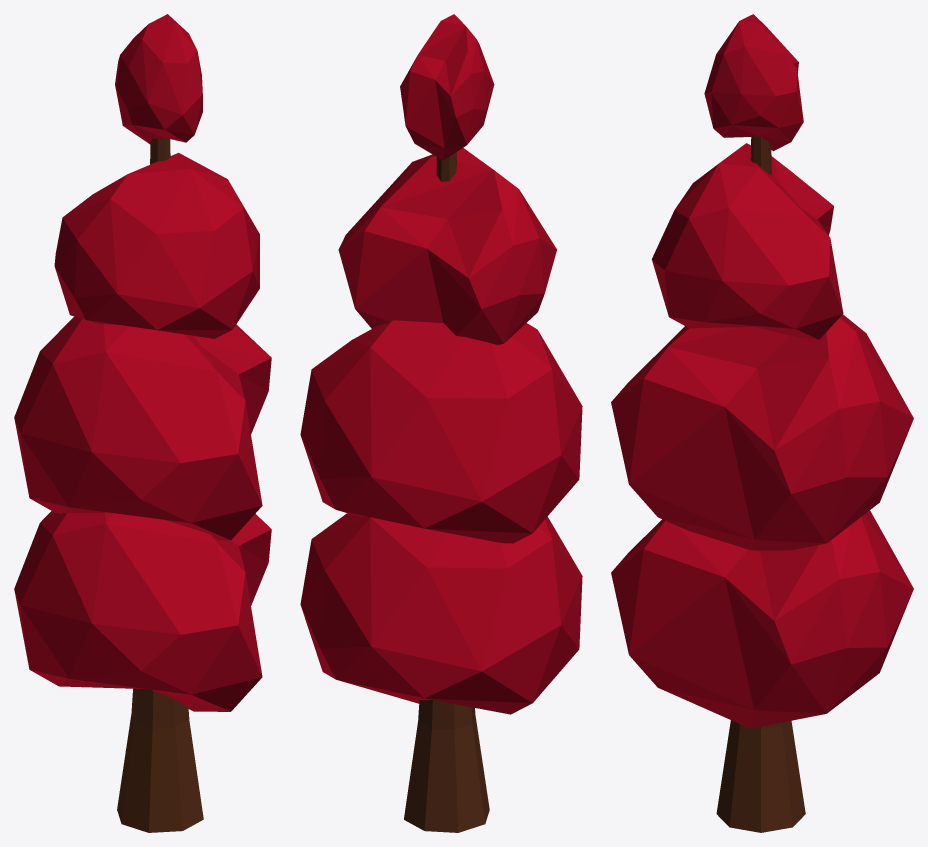
File: SauceRojo.fbx
3 views of the same model, side by side, from view 1: azimuth 30°, elevation 25°; view 2: azimuth 150°, elevation 25°; view 3: azimuth 270°, elevation 25° (orthographic).
Parts seen in each view (by area): view 1: SauceColorado; view 2: SauceColorado; view 3: SauceColorado.
Part boxes in pixels (left/top/right/bottom): SauceColorado: left=14, top=14, right=271, bottom=832; SauceColorado: left=300, top=14, right=582, bottom=832; SauceColorado: left=611, top=14, right=913, bottom=832.
Size of the model in its own units: 134 by 408 by 141.
